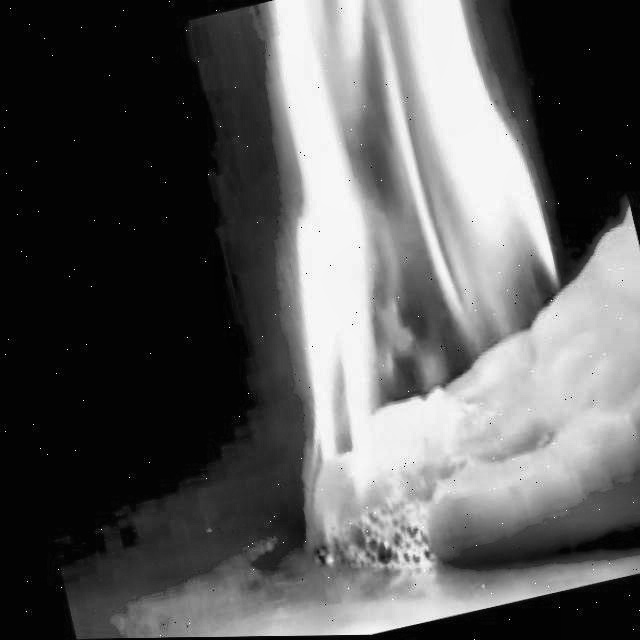Fire: (202, 0, 624, 512)
